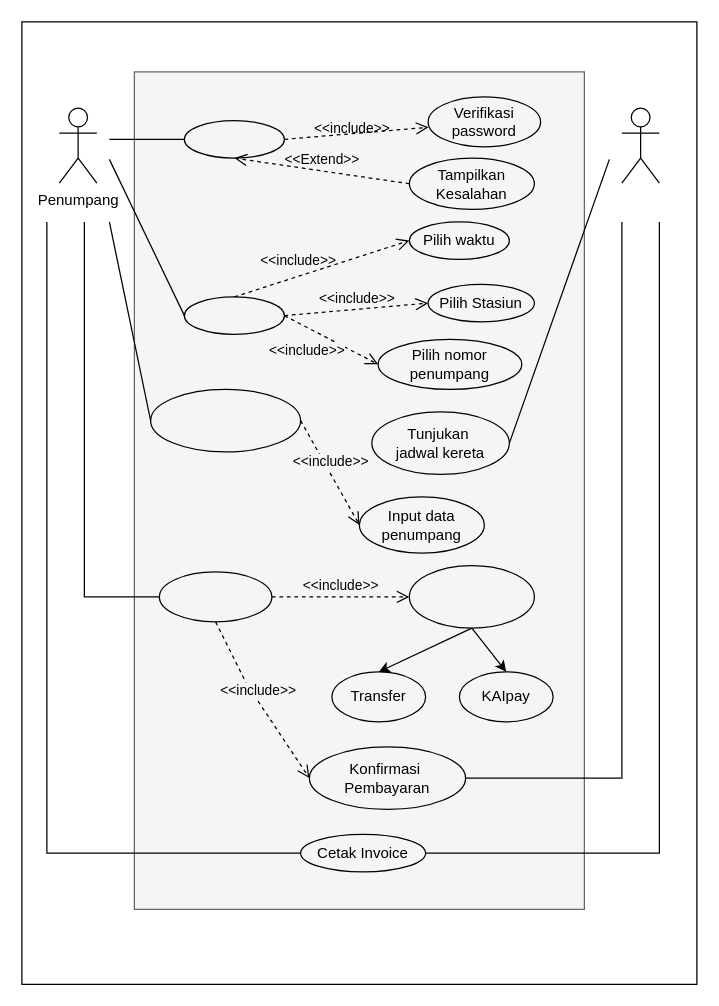
Image size: 719x1006. Some labels were removed from this diagram. Each missing label, with the box of its shape:
admin: (621, 107, 659, 183)
Login: (183, 119, 284, 158)
Metode pembayaran: (408, 564, 534, 628)
Pembayaran: (158, 571, 272, 622)
Pemesanan Tiket: (149, 388, 301, 452)
Pilih tiket: (183, 296, 284, 334)
